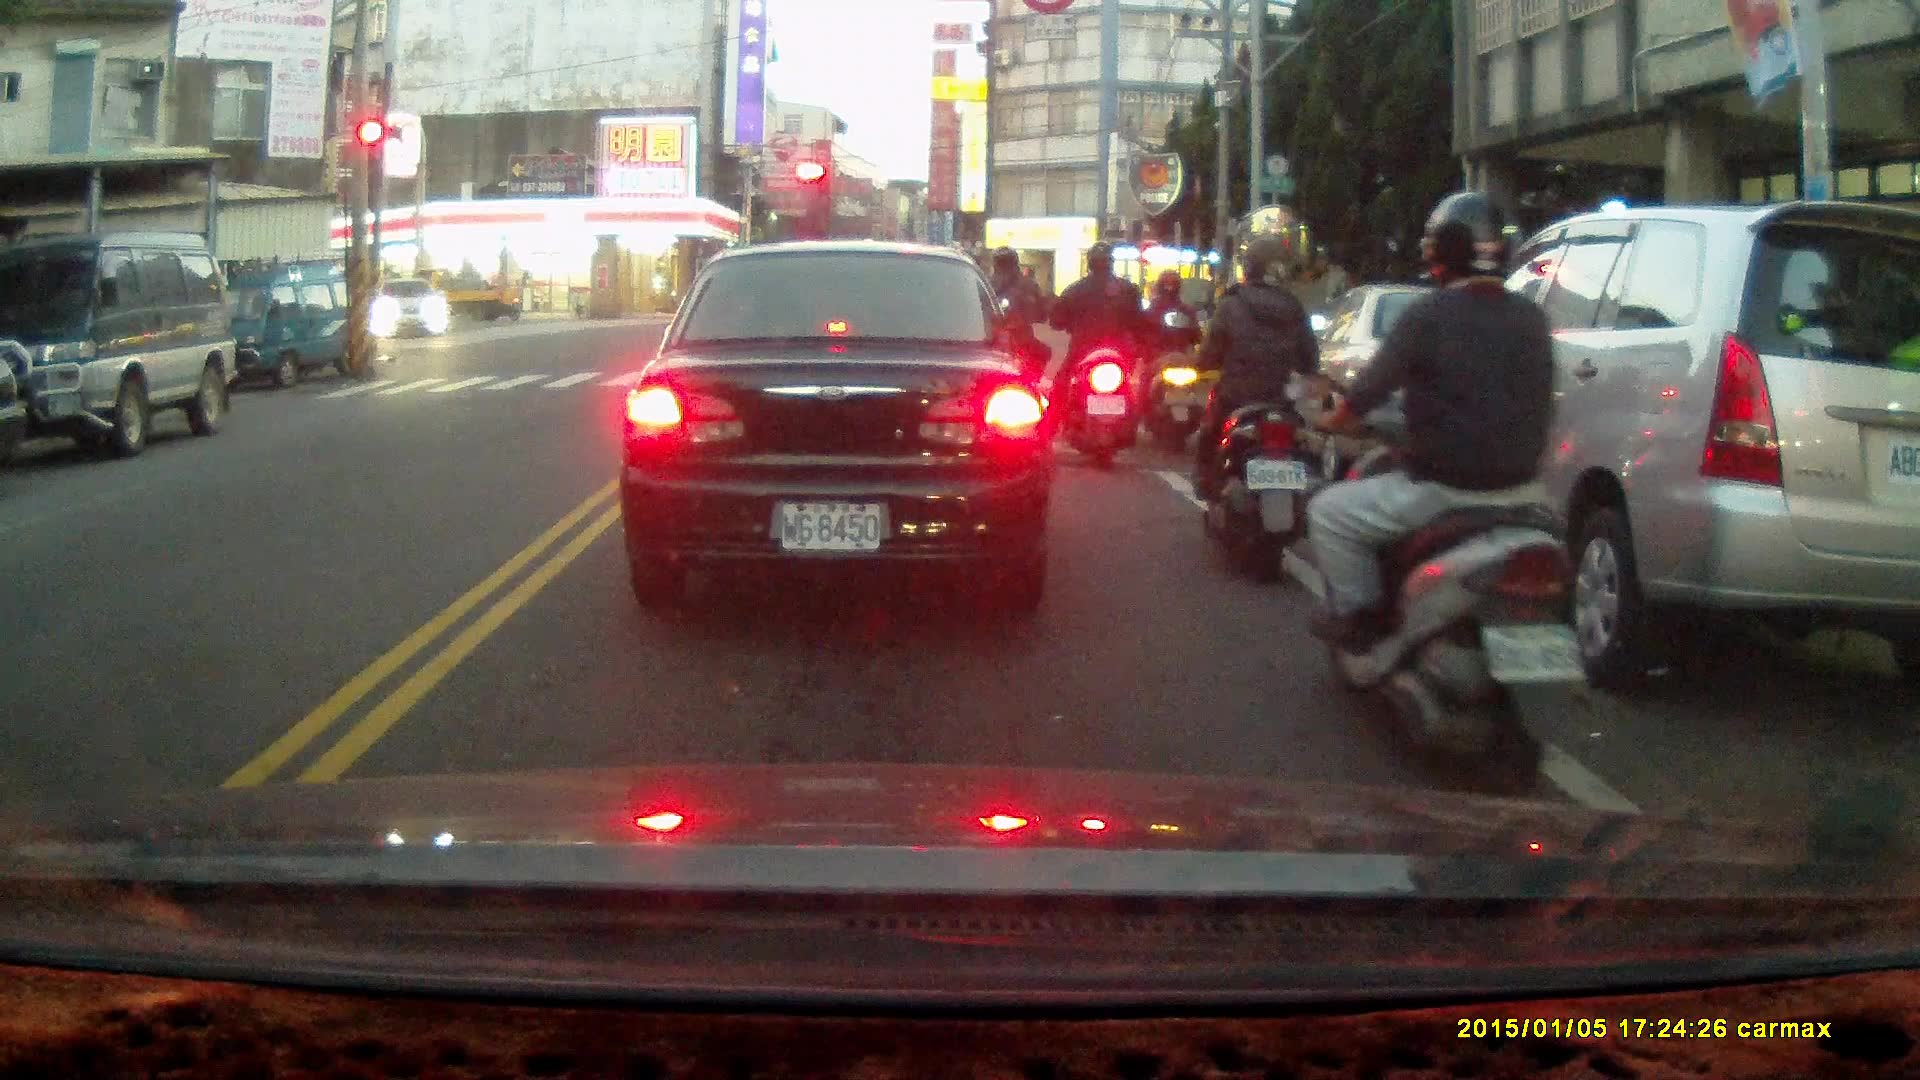rider: (1289, 186, 1597, 800), (1160, 235, 1323, 581), (1048, 243, 1141, 469), (963, 245, 1050, 449), (1134, 269, 1204, 450)
vehicle: (1382, 195, 1920, 685), (617, 243, 1061, 606), (1264, 282, 1568, 492), (1, 234, 239, 458), (194, 255, 381, 395), (399, 265, 532, 327), (372, 277, 451, 343)
